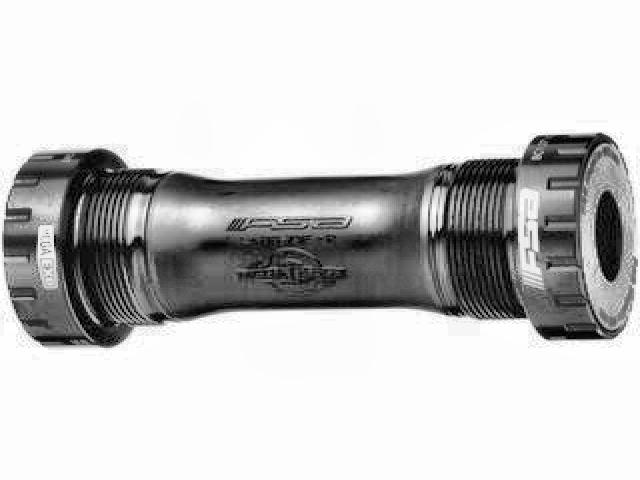bottom_bracket: (6, 129, 640, 352)
